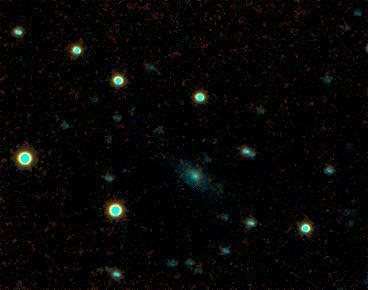star: (111, 105, 141, 135)
